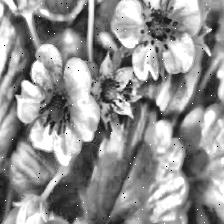Blossom Blight: (136, 0, 181, 56), (35, 80, 75, 138), (90, 71, 132, 117)
